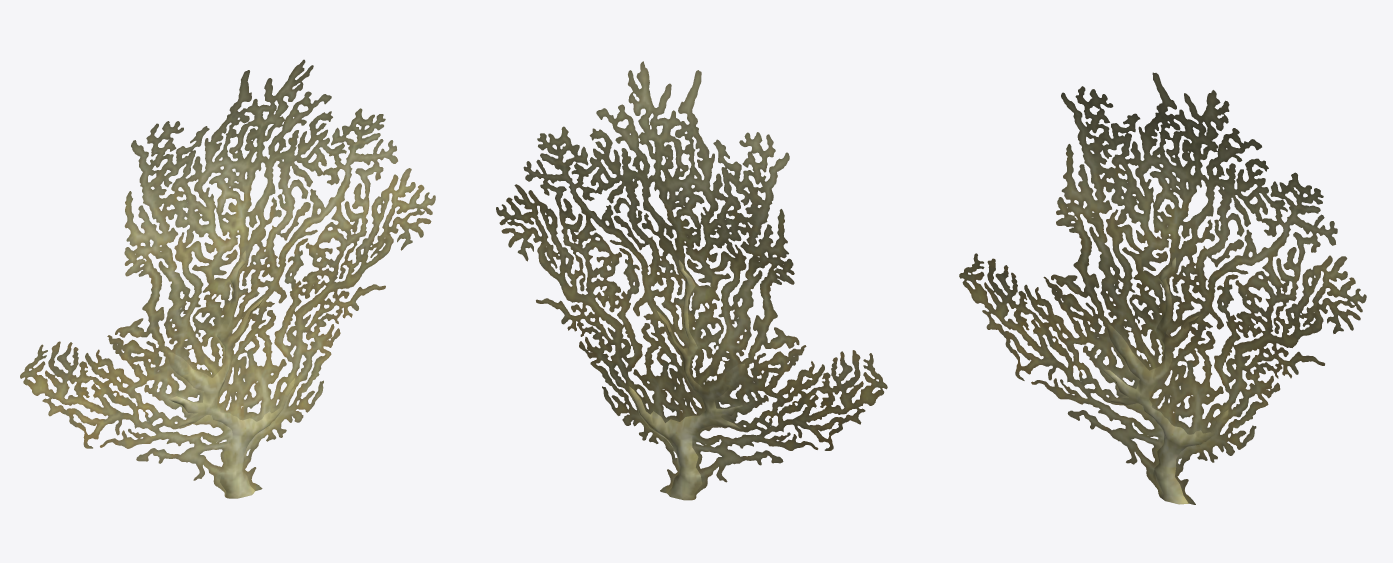
Rendered from ss_plant_coral_02.obj.
The picture shows the model from 3 angles, left to right: view 1: azimuth 30°, elevation 25°; view 2: azimuth 150°, elevation 25°; view 3: azimuth 330°, elevation 25°; orthographic projection. The views are drawn at different scales.
Parts seen in each view (by area): view 1: Mesh_1.001_Mesh_1_mesh0000.003; view 2: Mesh_1.001_Mesh_1_mesh0000.003; view 3: Mesh_1.001_Mesh_1_mesh0000.003.
Boxes of the visible parts, x1=… form: Mesh_1.001_Mesh_1_mesh0000.003: x1=20, y1=59, x2=435, y2=498; Mesh_1.001_Mesh_1_mesh0000.003: x1=496, y1=61, x2=887, y2=500; Mesh_1.001_Mesh_1_mesh0000.003: x1=959, y1=72, x2=1366, y2=504.
Bounding box in the file's own units: 45.62 × 45.62 × 3.54.
Materials: 1 (1 with a texture image).
